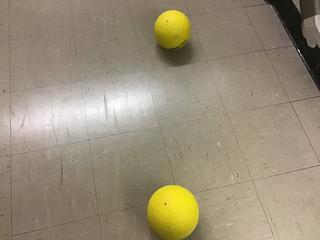power_cell: (138, 180, 206, 240), (141, 5, 193, 54)
